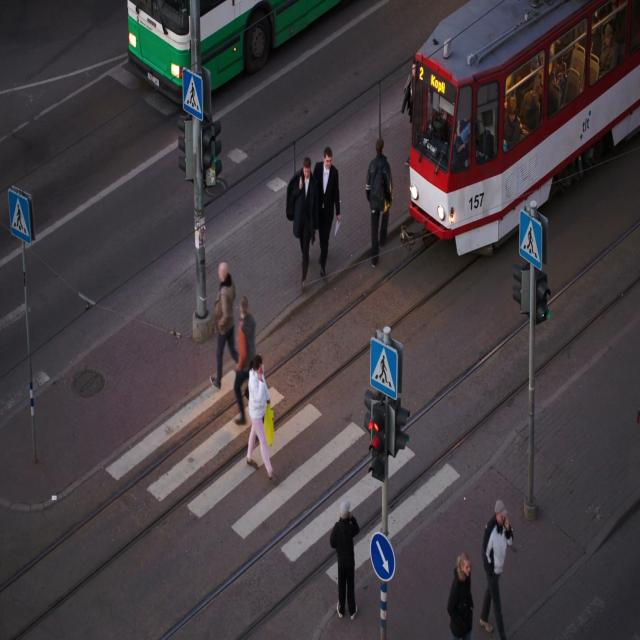pedestrian: (292, 147, 340, 284), (330, 502, 359, 617), (247, 356, 272, 478), (234, 296, 256, 425), (215, 271, 238, 385)
